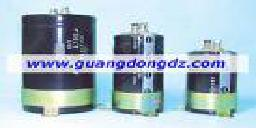Electrolytic Capacitor: (20, 2, 104, 119), (111, 20, 162, 56), (179, 38, 248, 59)
